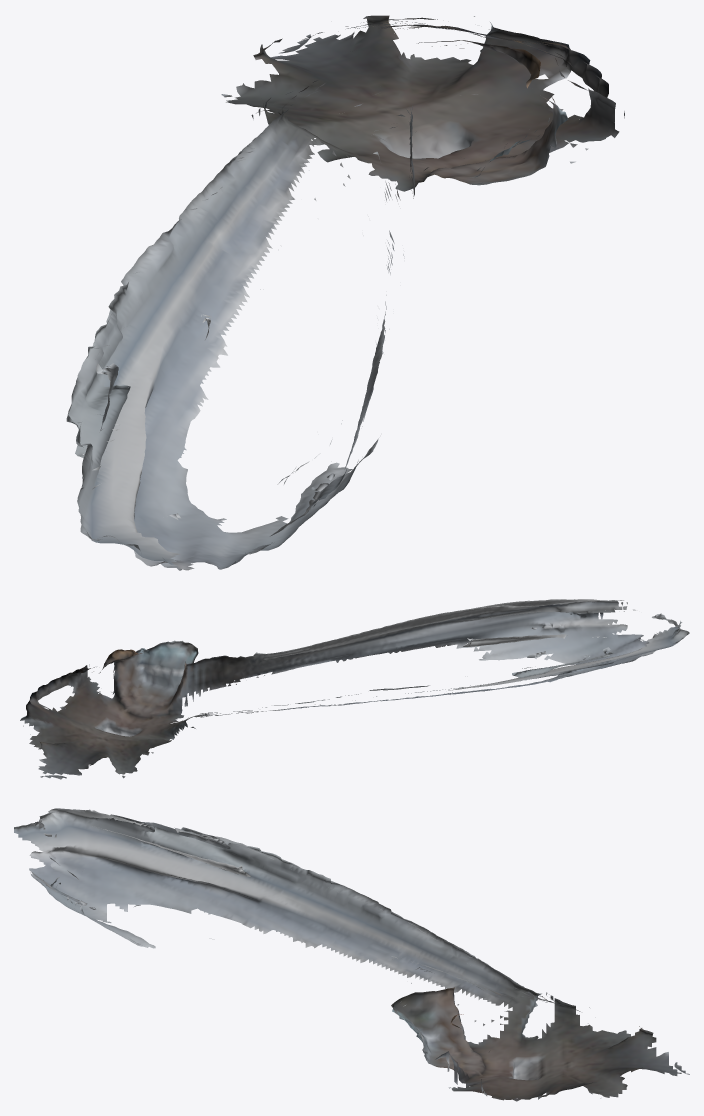
File: gen-14.glb
3 views of the same model, one above another, from view 1: azimuth 30°, elevation 25°; view 2: azimuth 150°, elevation 25°; view 3: azimuth 270°, elevation 25° (orthographic). The views are drawn at different scales.
Visible parts, largest first — view 1: world; view 2: world; view 3: world.
Part boxes in pixels (x1,y1,x2,y2): world: [66, 15, 624, 570]; world: [20, 599, 689, 779]; world: [14, 808, 689, 1101].
Bounding box in the file's own units: 94.56 × 15.52 × 104.
